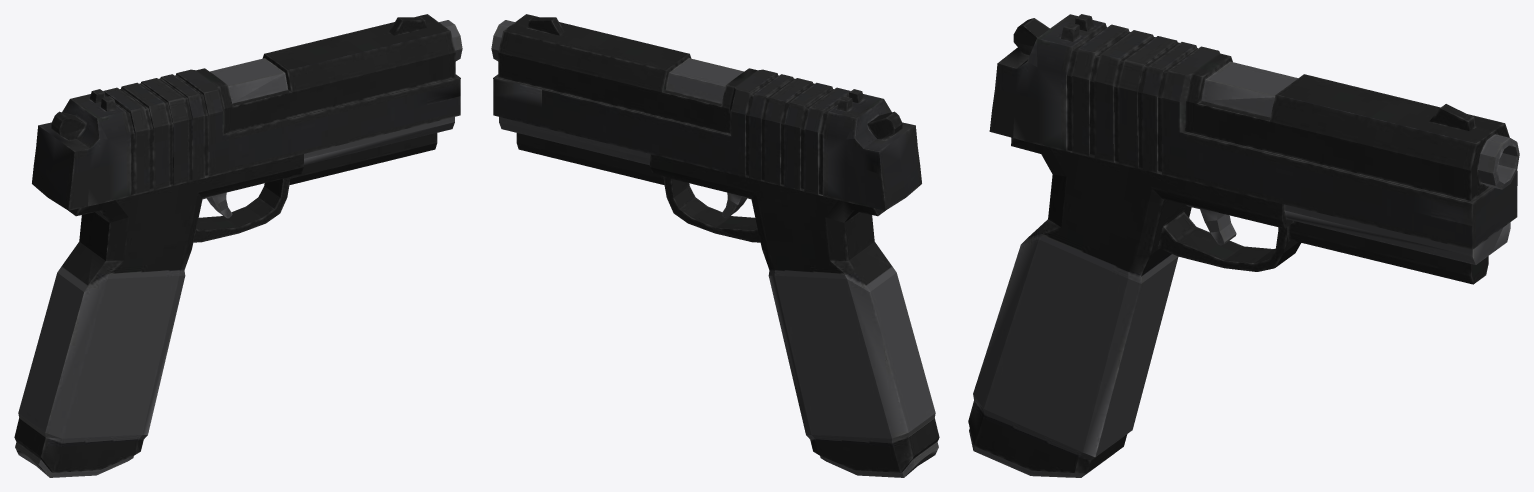
Rendered from glock.glb.
3 views of the same model, side by side, from view 1: azimuth 30°, elevation 25°; view 2: azimuth 150°, elevation 25°; view 3: azimuth 330°, elevation 25° (orthographic). The views are drawn at different scales.
Parts seen in each view (by area): view 1: Pistol_4; view 2: Pistol_4; view 3: Pistol_4.
Boxes of the visible parts, bbox=[...] form: Pistol_4: bbox=[14, 14, 462, 477]; Pistol_4: bbox=[491, 14, 939, 477]; Pistol_4: bbox=[968, 14, 1519, 477].
Bounding box in the file's own units: 1.98 × 1.63 × 0.3009.
1 material, 1 textured.
